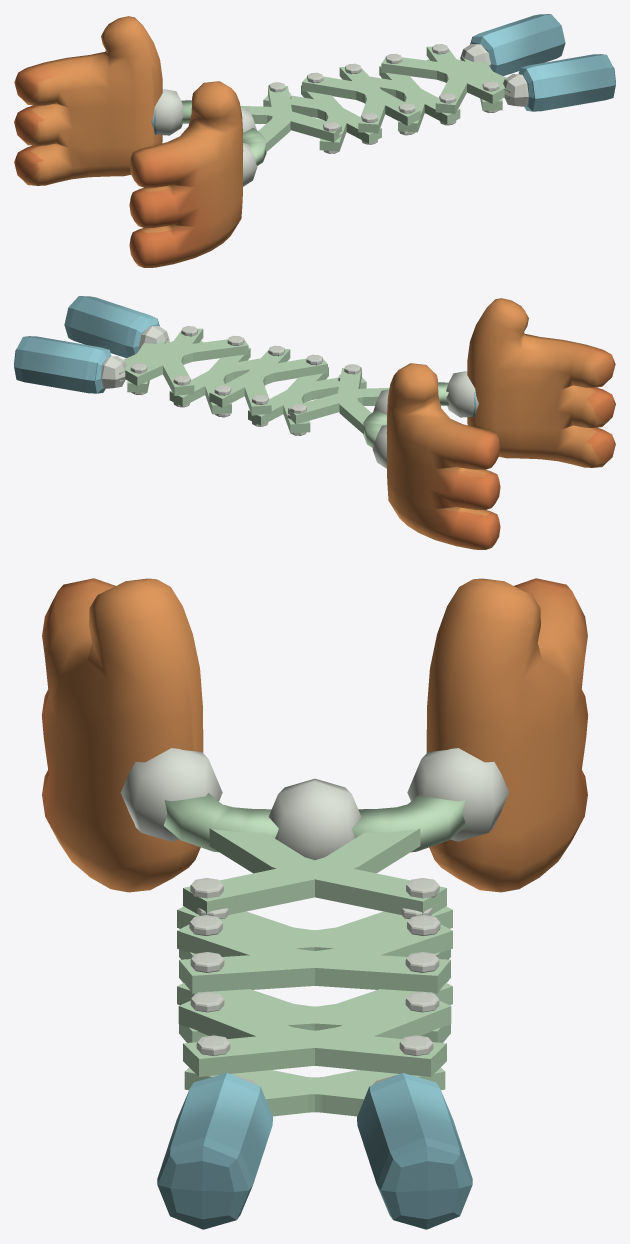
The model's file is Weapon_Grab.fbx.
The picture shows the model from 3 angles, top to bottom: view 1: azimuth 30°, elevation 25°; view 2: azimuth 150°, elevation 25°; view 3: azimuth 270°, elevation 25°; orthographic projection. The views are drawn at different scales.
Parts seen in each view (by area): view 1: Cube.019, Cube.059, Plane.016, Plane.019, Cube.056, Plane.030, Plane.014, Plane.020, Plane.023, Cube.058, Plane.029, Plane.026 (+4 smaller); view 2: Cube.019, Cube.059, Plane.029, Plane.020, Cube.056, Plane.031, Plane.016, Plane.023, Plane.026, Plane.019, Plane.014, Cube.058 (+4 smaller); view 3: Cube.019, Cube.059, Cube.056, Plane.020, Plane.011, Plane.014, Plane.029, Plane.016, Plane.023, Plane.019, Cube.057, Plane.015 (+9 smaller).
Part boxes in pixels (x1,y1,x2,y2): Cube.019: (14,16,243,267); Cube.059: (470,14,615,111); Plane.016: (381,57,504,103); Plane.019: (302,76,420,125); Cube.056: (151,89,257,186); Plane.030: (263,95,381,143); Plane.014: (240,106,341,142); Plane.020: (426,46,467,113); Plane.023: (258,85,292,152); Cube.058: (460,44,528,106); Plane.029: (339,67,386,133); Plane.026: (379,66,426,132); Cube.019: (386,298,615,549); Cube.059: (14,296,159,393); Plane.029: (209,358,327,407); Plane.020: (125,339,248,385); Cube.056: (372,371,478,468); Plane.031: (248,377,366,425); Plane.016: (161,328,203,395); Plane.023: (288,388,389,424); Plane.026: (169,358,260,406); Plane.019: (243,349,290,415); Plane.014: (338,367,371,434); Cube.058: (101,326,169,388); Cube.019: (41,578,588,892); Cube.059: (157,1073,472,1229); Cube.056: (121,748,508,841); Plane.020: (178,1000,446,1076); Plane.011: (164,793,465,852); Plane.014: (183,828,420,914); Plane.029: (177,924,450,993); Plane.016: (183,1000,451,1076); Plane.023: (209,828,446,914); Plane.019: (179,924,452,993); Cube.057: (268,778,361,859); Plane.015: (184,1067,445,1116).
Size of the model in its own units: 884 by 259 by 413.
